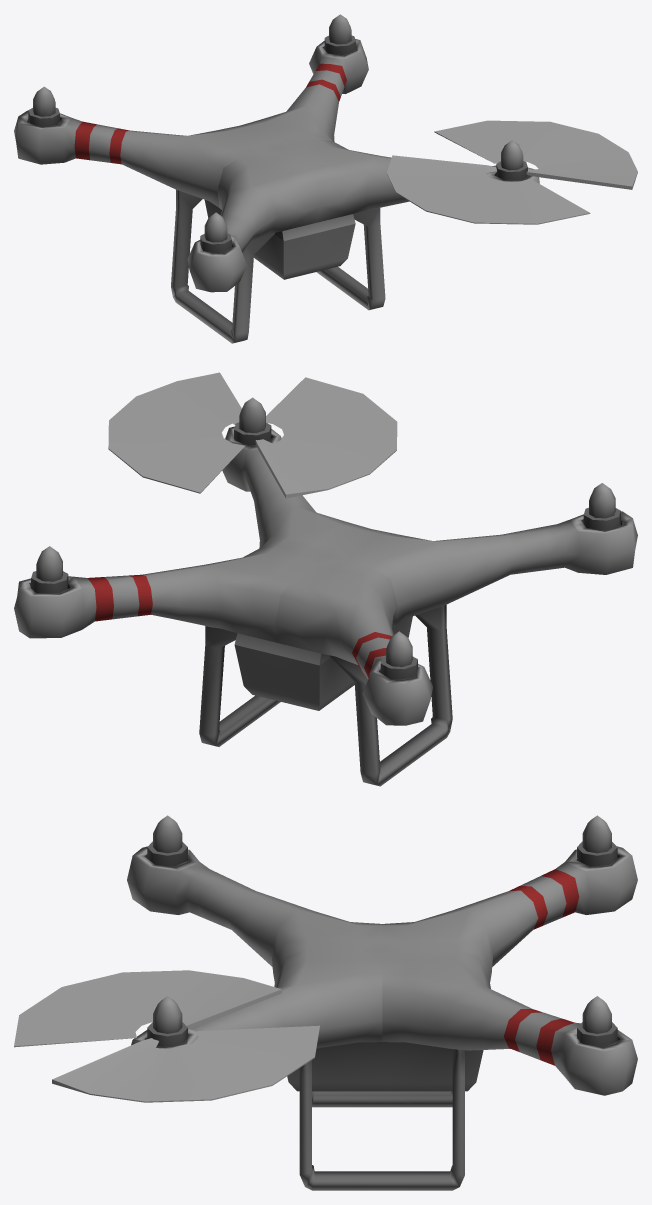
3 renders of one model, top to bottom at view 1: azimuth 30°, elevation 25°; view 2: azimuth 150°, elevation 25°; view 3: azimuth 270°, elevation 25°, orthographic. The views are drawn at different scales.
Parts seen in each view (by area): view 1: base.425; view 2: base.425; view 3: base.425.
Boxes of the visible parts, x1,y1,x2,y2 form: base.425: [14, 14, 637, 343]; base.425: [14, 372, 637, 786]; base.425: [14, 815, 637, 1190].
Size of the model in its own units: 0.4984 by 0.2119 by 0.5.
